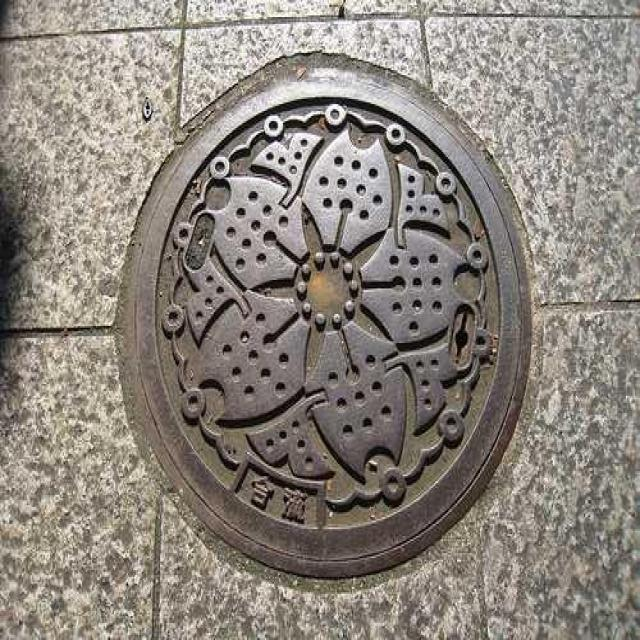manhole: (113, 53, 534, 584)
